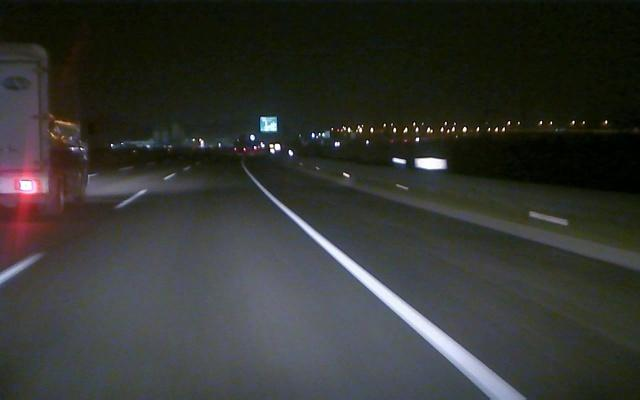lane: (250, 178, 524, 396), (0, 190, 147, 285)
